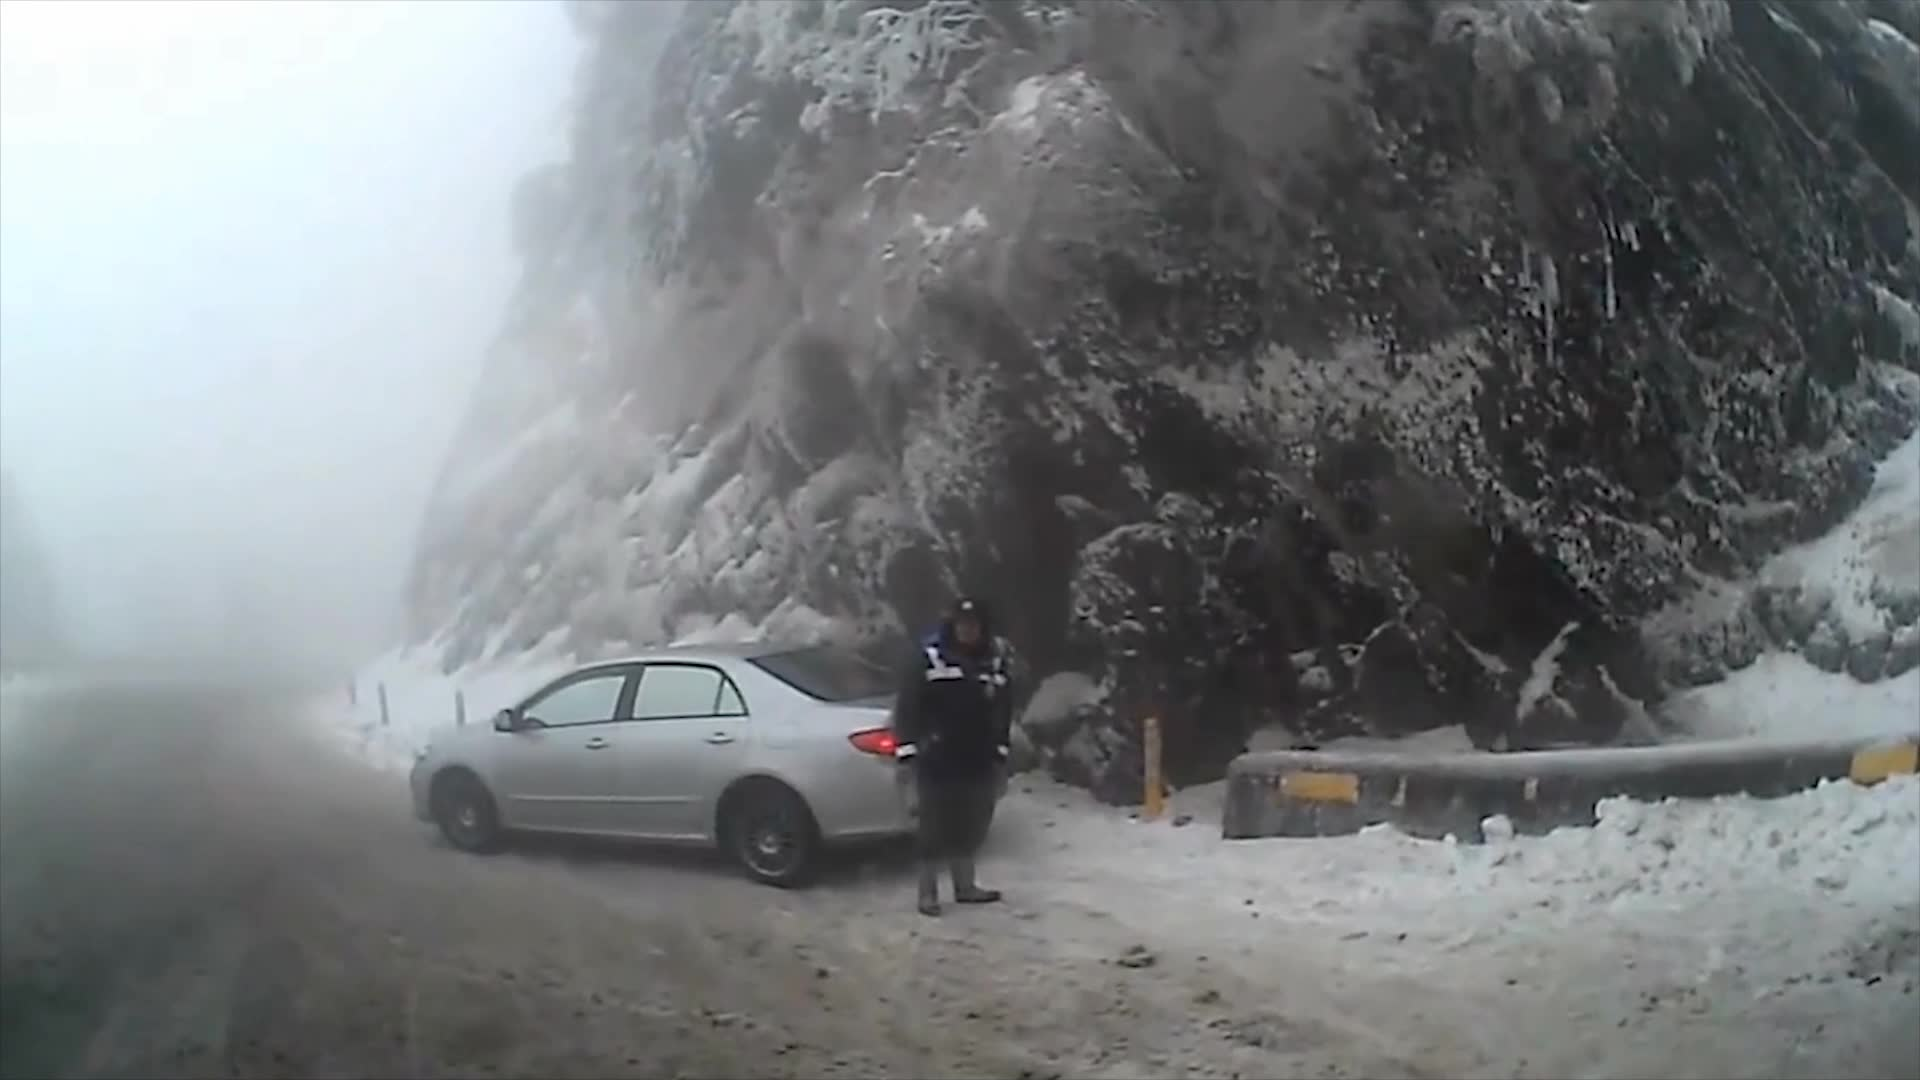pedestrian: (894, 598, 1012, 917)
vehicle: (406, 639, 1007, 891)
